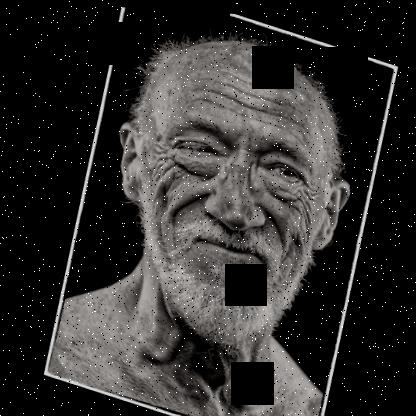Male: (66, 3, 385, 370)
